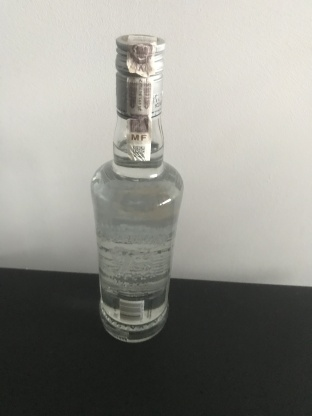nakretka: (113, 31, 167, 120)
